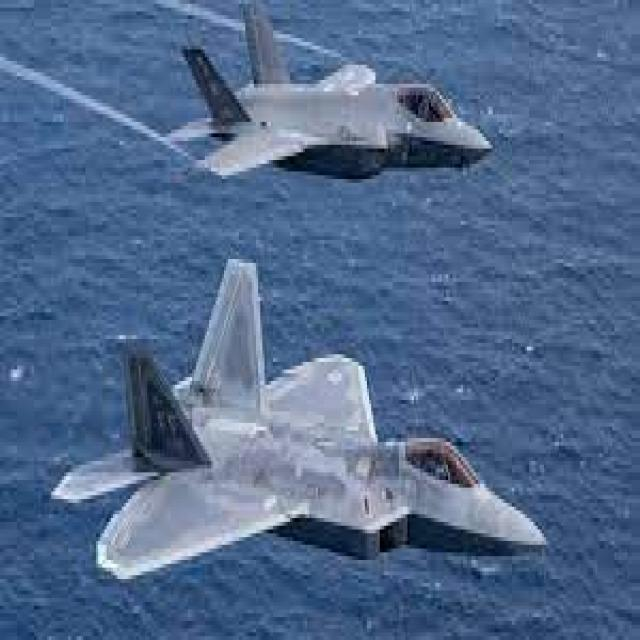F22: (52, 259, 550, 594), (162, 8, 495, 179)
